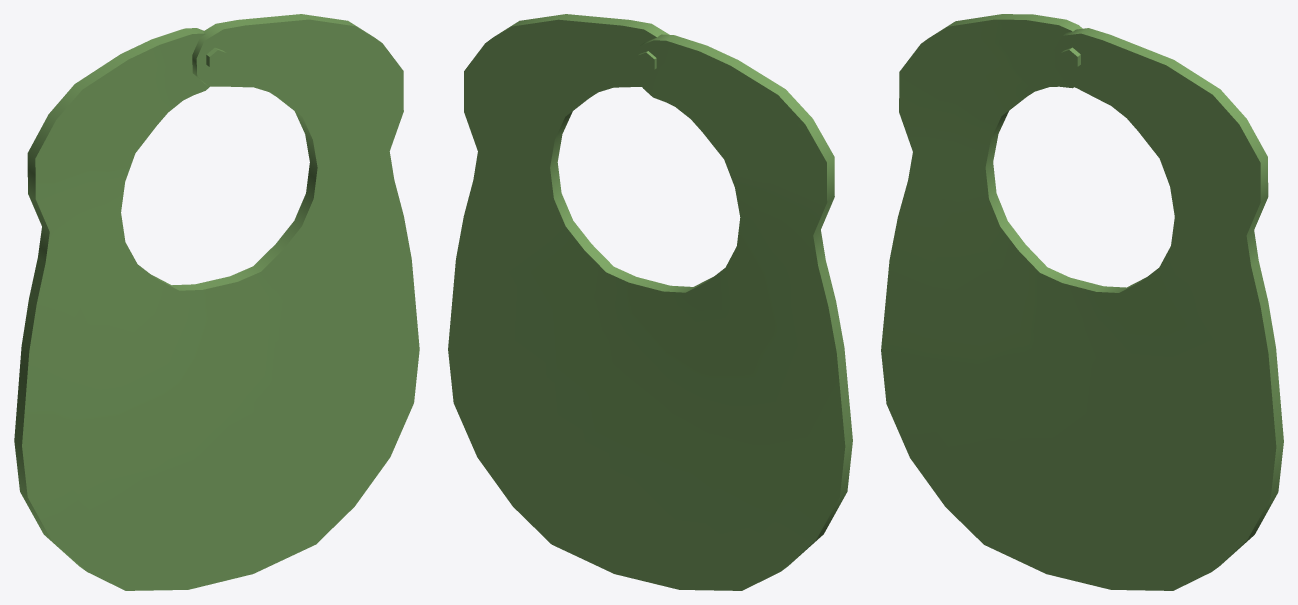
File: Bib_01.fbx
The picture shows the model from 3 angles, left to right: view 1: azimuth 30°, elevation 25°; view 2: azimuth 150°, elevation 25°; view 3: azimuth 330°, elevation 25°; orthographic projection.
Parts seen in each view (by area): view 1: Bib_01; view 2: Bib_01; view 3: Bib_01.
Part boxes in pixels (<box>): Bib_01: <box>14,14,419,590</box>; Bib_01: <box>448,14,852,590</box>; Bib_01: <box>881,14,1283,590</box>.
Bounding box in the file's own units: 0.1794 × 0.2381 × 0.0137.
